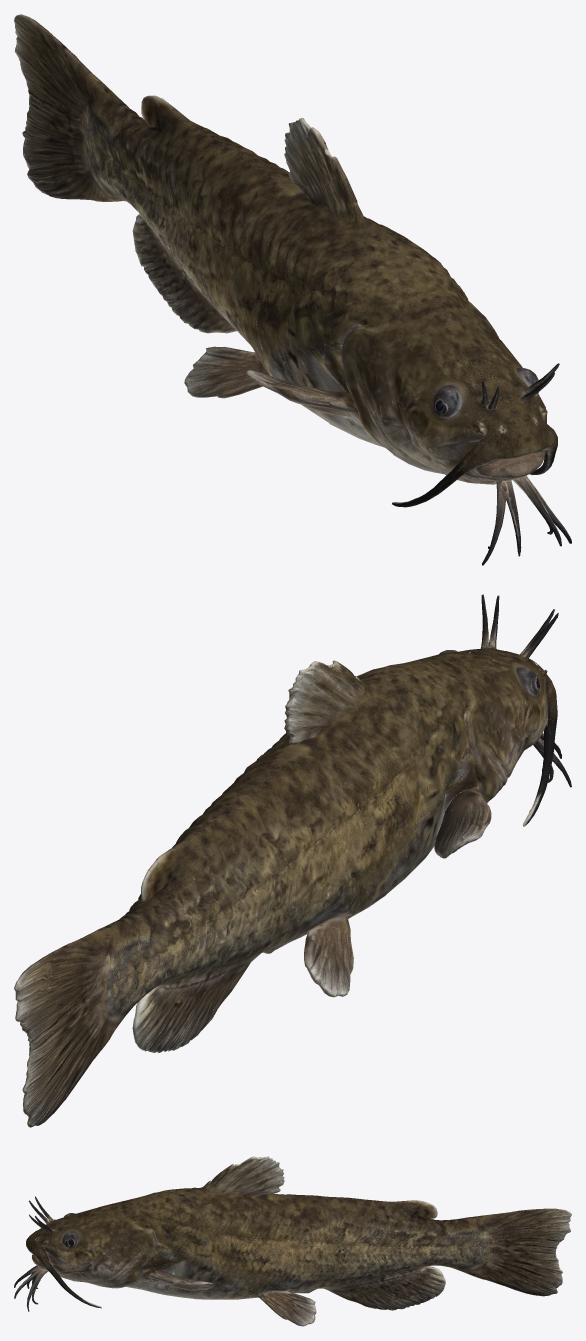
The model's file is sumik_karlowaty.glb.
3 views of the same model, one above another, from view 1: azimuth 30°, elevation 25°; view 2: azimuth 150°, elevation 25°; view 3: azimuth 270°, elevation 25° (orthographic). The views are drawn at different scales.
Visible parts, largest first — view 1: Mesh_0; view 2: Mesh_0; view 3: Mesh_0.
Part boxes in pixels (bbox=[...]): Mesh_0: bbox=[14, 14, 571, 565]; Mesh_0: bbox=[14, 594, 571, 1127]; Mesh_0: bbox=[14, 1156, 571, 1326].
Bounding box in the file's own units: 0.4818 × 0.5784 × 1.9.
Materials: 1 (1 with a texture image).
